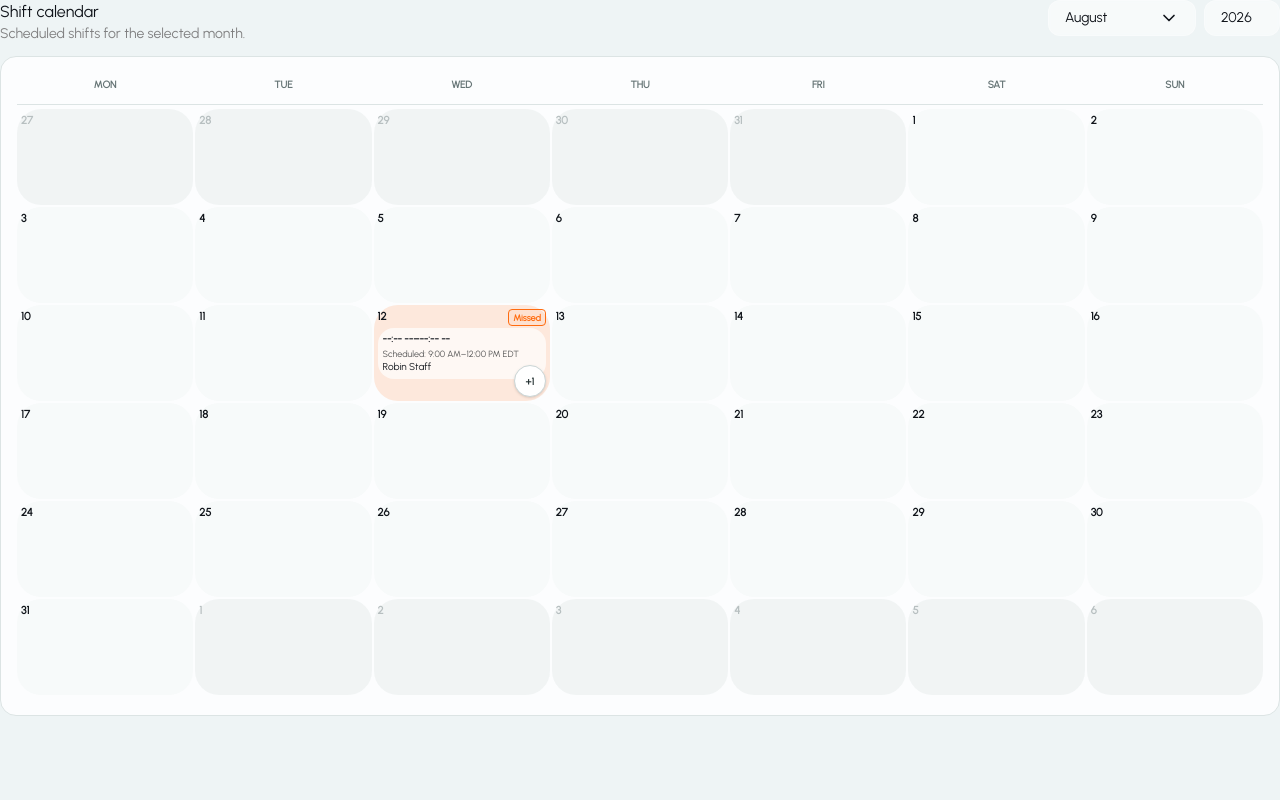
Test case: ShiftsMonthCalendar shared-grid regression › keeps client filtering, selectors, touch overflow, and agency detail navigation
Later steps or results of the test are not shown.
expect the dropdown named "Month" reads "August": met, box [1048,0,1196,36]
expect the dropdown named "Year" reads "2026": met, box [1204,0,1279,36]
Click the button named "Show 1 more shift on August 12". click: coordinates (530, 381)
box: [514,365,546,397]
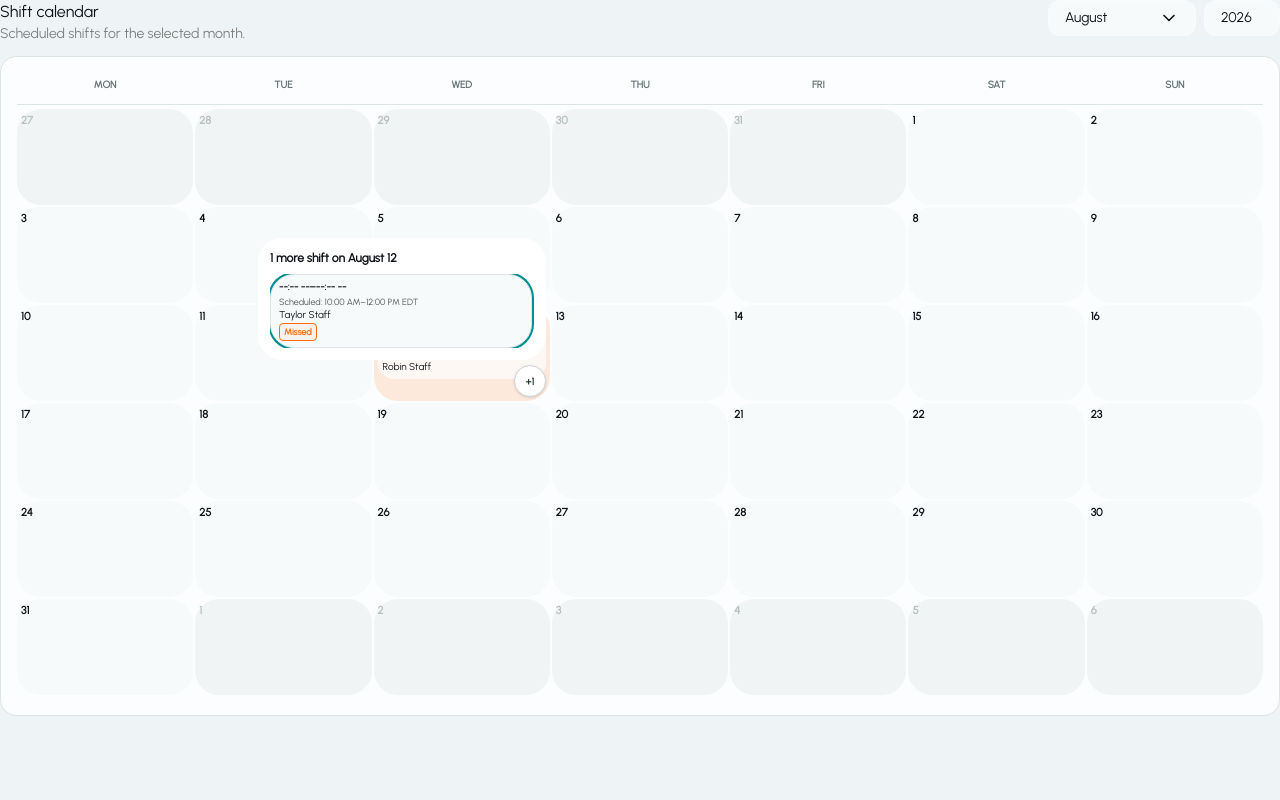
expect the button with aria-label "Open shift details for Taylor Staff" is shown: met, box [270,274,532,348]
